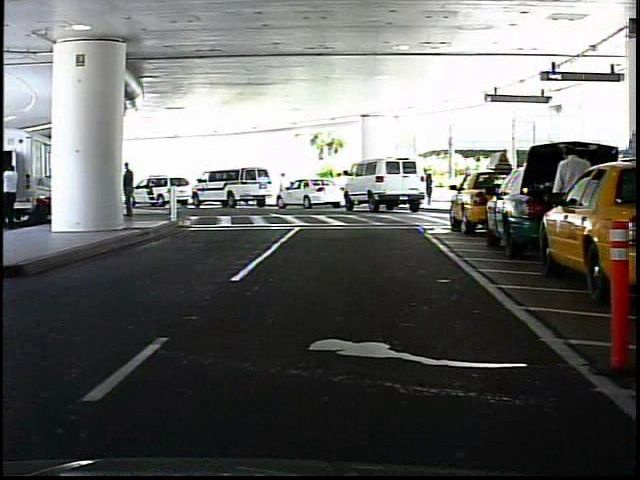person: (549, 137, 592, 267), (124, 158, 140, 225), (274, 170, 291, 204), (424, 170, 437, 207)
